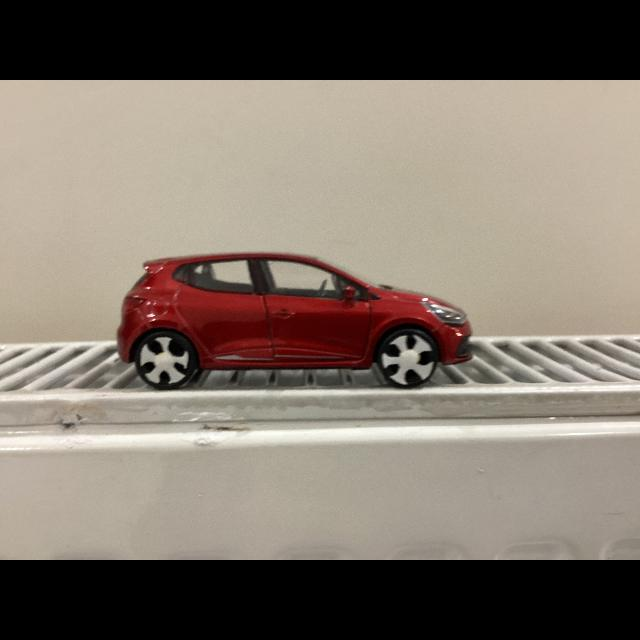Yanlis_Jant: (381, 333, 435, 385), (139, 337, 191, 385)
